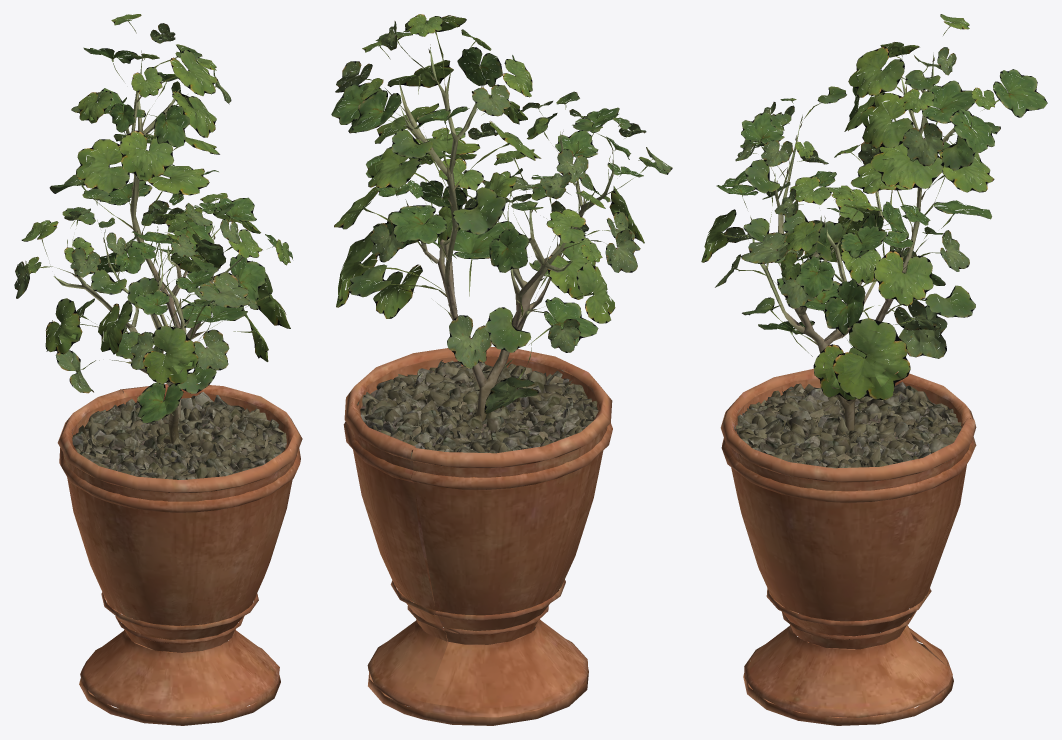
File: potted_plant_01.glb
3 views of the same model, side by side, from view 1: azimuth 30°, elevation 25°; view 2: azimuth 150°, elevation 25°; view 3: azimuth 270°, elevation 25° (orthographic). The views are drawn at different scales.
Parts seen in each view (by area): view 1: potted_plant_01_stem; view 2: potted_plant_01_stem; view 3: potted_plant_01_stem.
Part boxes in pixels (<box>): potted_plant_01_stem: <box>14,14,302,725</box>; potted_plant_01_stem: <box>331,14,672,725</box>; potted_plant_01_stem: <box>701,14,1047,725</box>.
Bounding box in the file's own units: 0.5858 × 1.34 × 0.6335.
Materials: 2 (2 with a texture image).
